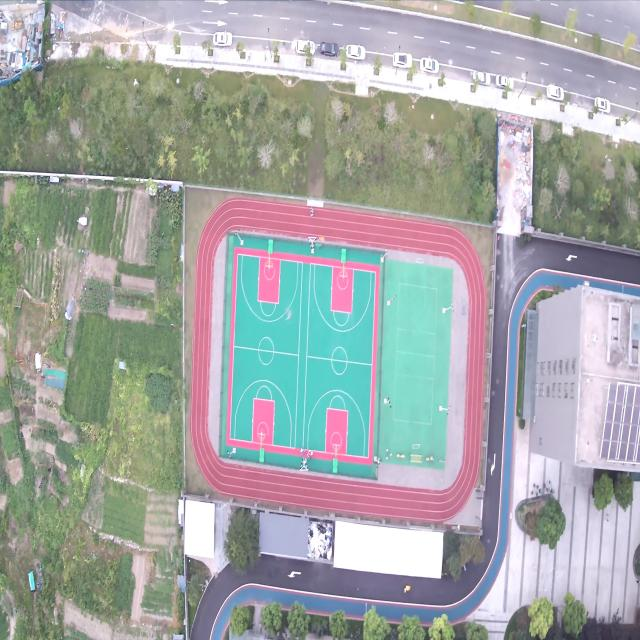drone: (283, 307, 294, 324)
